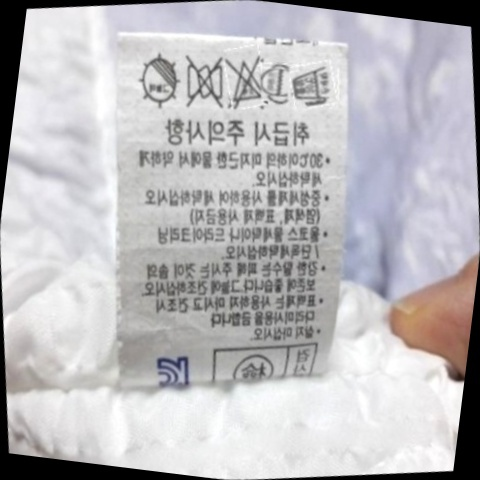DN_wring: (170, 46, 234, 115)
dry_clean: (255, 58, 299, 105)
hand_wash: (281, 52, 343, 113)
non_chlorine_bleach: (217, 47, 274, 113)
shade_dry: (124, 43, 193, 119)
